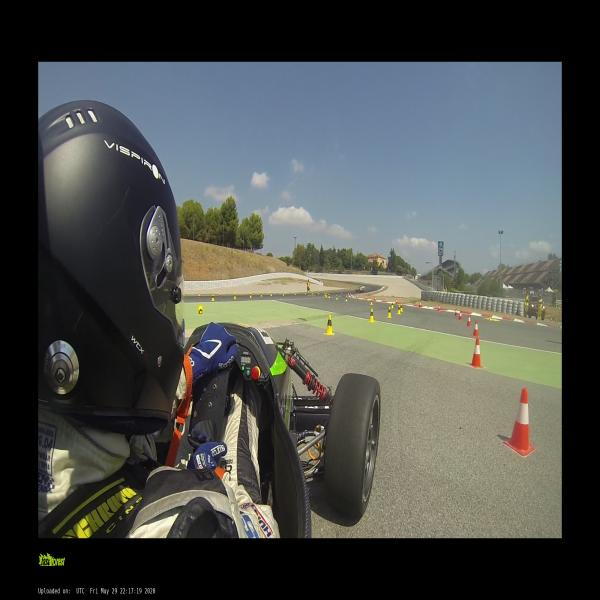orange_cone: (505, 388, 535, 456), (469, 338, 484, 369), (473, 320, 479, 336), (467, 315, 471, 326), (458, 311, 462, 320), (455, 308, 458, 316), (437, 305, 440, 311), (419, 302, 422, 307), (396, 299, 398, 304), (219, 292, 221, 297), (238, 292, 240, 296), (199, 293, 200, 298), (375, 297, 376, 301), (366, 296, 367, 300)
yellow_cone: (324, 314, 334, 336), (368, 308, 374, 322), (397, 305, 402, 314), (387, 307, 391, 318), (400, 303, 404, 312), (198, 305, 202, 314), (391, 301, 394, 309), (211, 294, 214, 301), (344, 296, 348, 301), (335, 295, 339, 300), (370, 298, 372, 306), (234, 293, 236, 299), (260, 292, 262, 297), (270, 292, 272, 297), (328, 294, 330, 298), (312, 291, 314, 295), (282, 292, 284, 296), (250, 292, 251, 298), (326, 294, 327, 297), (295, 292, 296, 295), (305, 292, 306, 294)
